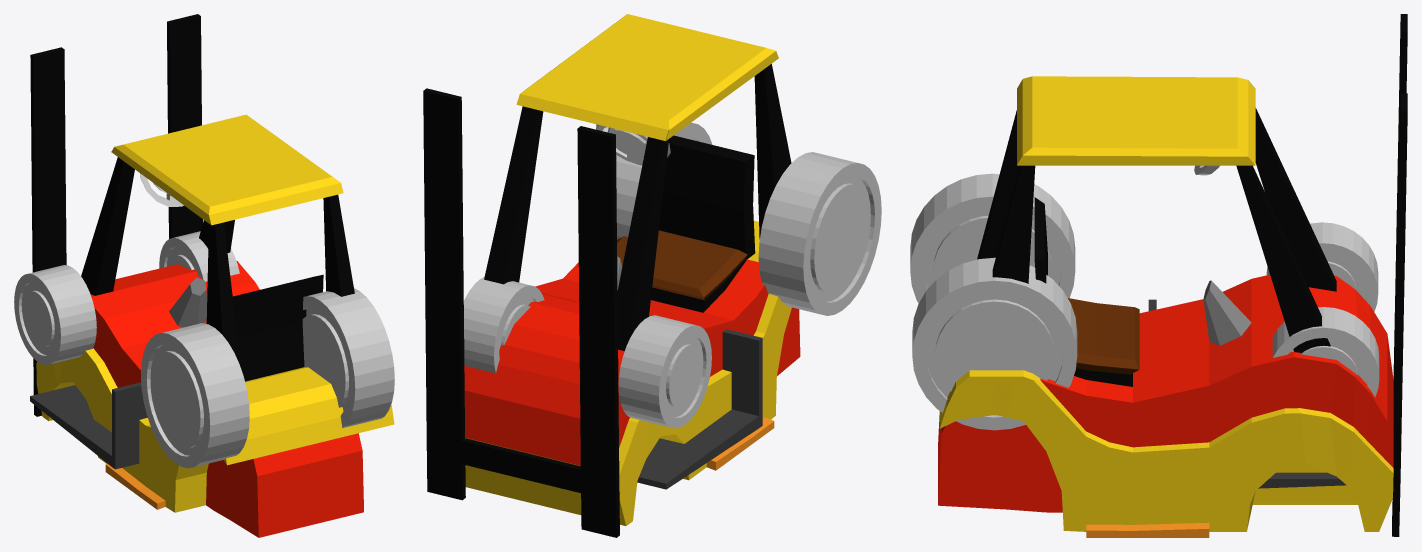
Rendered from Forklift_Lifter.fbx.
3 renders of one model, left to right at view 1: azimuth 30°, elevation 25°; view 2: azimuth 150°, elevation 25°; view 3: azimuth 270°, elevation 25°, orthographic. The views are drawn at different scales.
Parts seen in each view (by area): view 1: ForkBody, Cylinder.001, Cylinder, Cylinder.003, ForkLifter, Cylinder.002; view 2: ForkBody, Cylinder.001, Cylinder.003, ForkLifter, Cylinder.002, Cylinder, Cylinder.004; view 3: ForkBody, Cylinder, Cylinder.001, Cylinder.002, Cylinder.003, ForkLifter.
Boxes of the visible parts, x1=… form: ForkBody: x1=30, y1=14, x2=394, y2=537; Cylinder.001: x1=141, y1=323, x2=249, y2=468; Cylinder: x1=302, y1=288, x2=394, y2=427; Cylinder.003: x1=14, y1=265, x2=96, y2=365; ForkLifter: x1=30, y1=382, x2=147, y2=469; Cylinder.002: x1=159, y1=231, x2=239, y2=281; ForkBody: x1=423, y1=14, x2=800, y2=537; Cylinder.001: x1=758, y1=152, x2=881, y2=315; Cylinder.003: x1=618, y1=315, x2=711, y2=428; ForkLifter: x1=637, y1=329, x2=762, y2=489; Cylinder.002: x1=463, y1=277, x2=544, y2=373; Cylinder: x1=616, y1=122, x2=712, y2=239; Cylinder.004: x1=596, y1=124, x2=670, y2=165; ForkBody: x1=938, y1=14, x2=1407, y2=537; Cylinder: x1=912, y1=257, x2=1077, y2=430; Cylinder.001: x1=910, y1=173, x2=1075, y2=303; Cylinder.002: x1=1272, y1=307, x2=1379, y2=397; Cylinder.003: x1=1266, y1=222, x2=1378, y2=311; ForkLifter: x1=1148, y1=299, x2=1346, y2=488.
Bounding box in the file's own units: 330 × 550 × 583.
